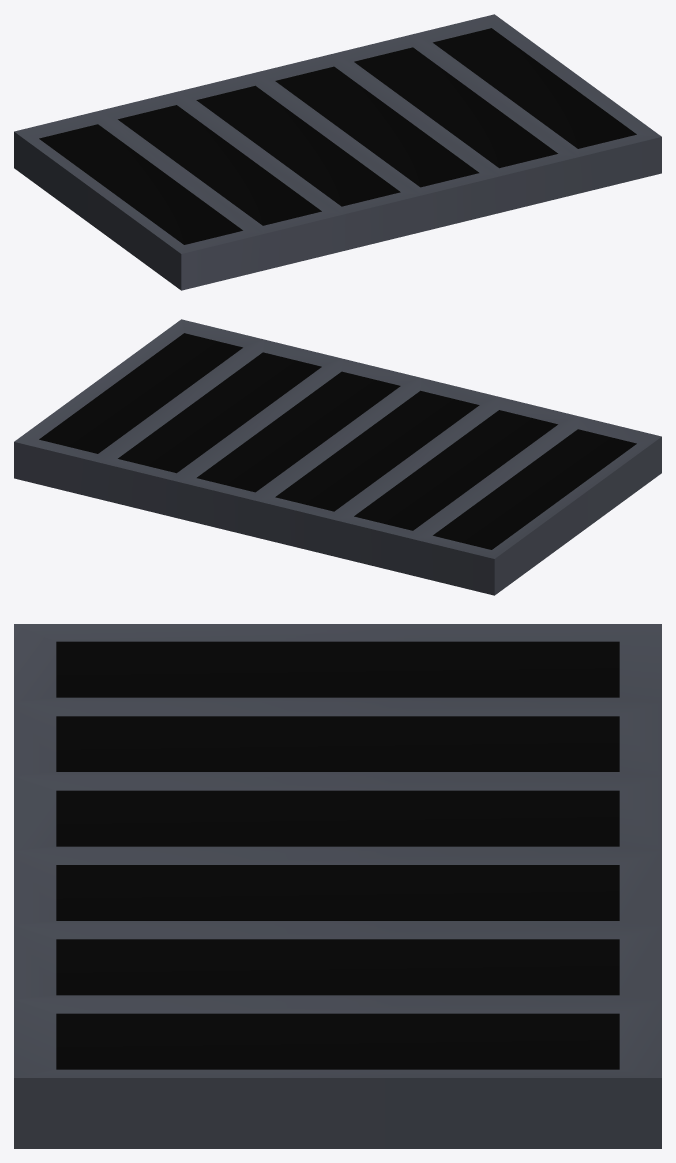
Rendered from SM_Street_Well_2.FBX.
The picture shows the model from 3 angles, top to bottom: view 1: azimuth 30°, elevation 25°; view 2: azimuth 150°, elevation 25°; view 3: azimuth 270°, elevation 25°; orthographic projection. The views are drawn at different scales.
Visible parts, largest first — view 1: SM_Street_Well_2; view 2: SM_Street_Well_2; view 3: SM_Street_Well_2.
Boxes of the visible parts, <box> form: SM_Street_Well_2: <box>14,14,661,290</box>; SM_Street_Well_2: <box>14,319,661,595</box>; SM_Street_Well_2: <box>14,624,661,1148</box>.
Size of what is drawn, in the model's own units: 68.66 by 41.42 by 5.
